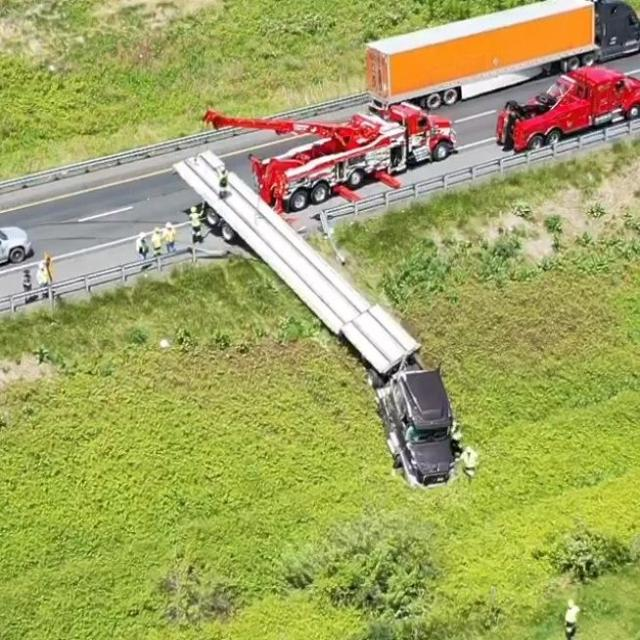traffic_incident: (311, 284, 482, 502)
